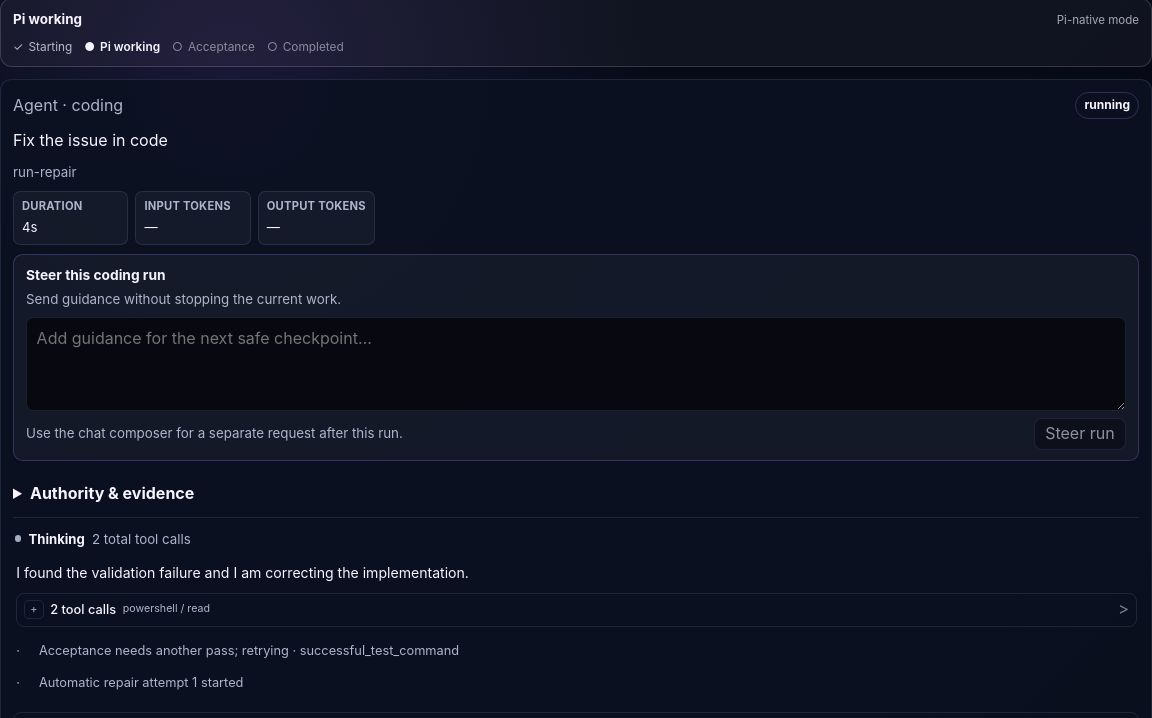
Test: OmnixRunCard › shows thinking inline while tool details stay collapsible
Expected: the text "I found the validation failure" is shown, x1=16 y1=564 x2=469 y2=581
Click the heading "+ 2 tool calls powershell / read" at [117, 610], box x1=24 y1=600 x2=210 y2=619
(page scrolled)
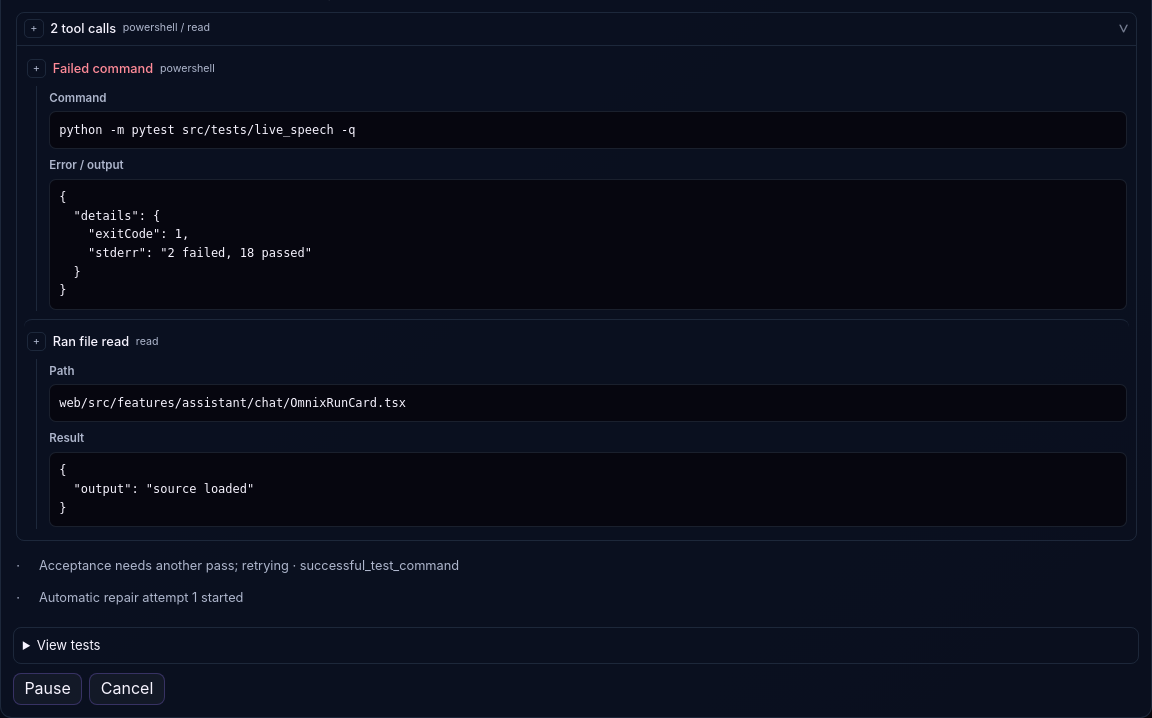
Expected: the text "Acceptance needs another pass; retrying" is shown, x1=39 y1=558 x2=459 y2=572
Now the text "python -m pytest src/tests/live_speech -q" is shown, box x1=49 y1=111 x2=1127 y2=149
Now the text "2 failed, 18 passed" is shown, box x1=59 y1=190 x2=312 y2=297
